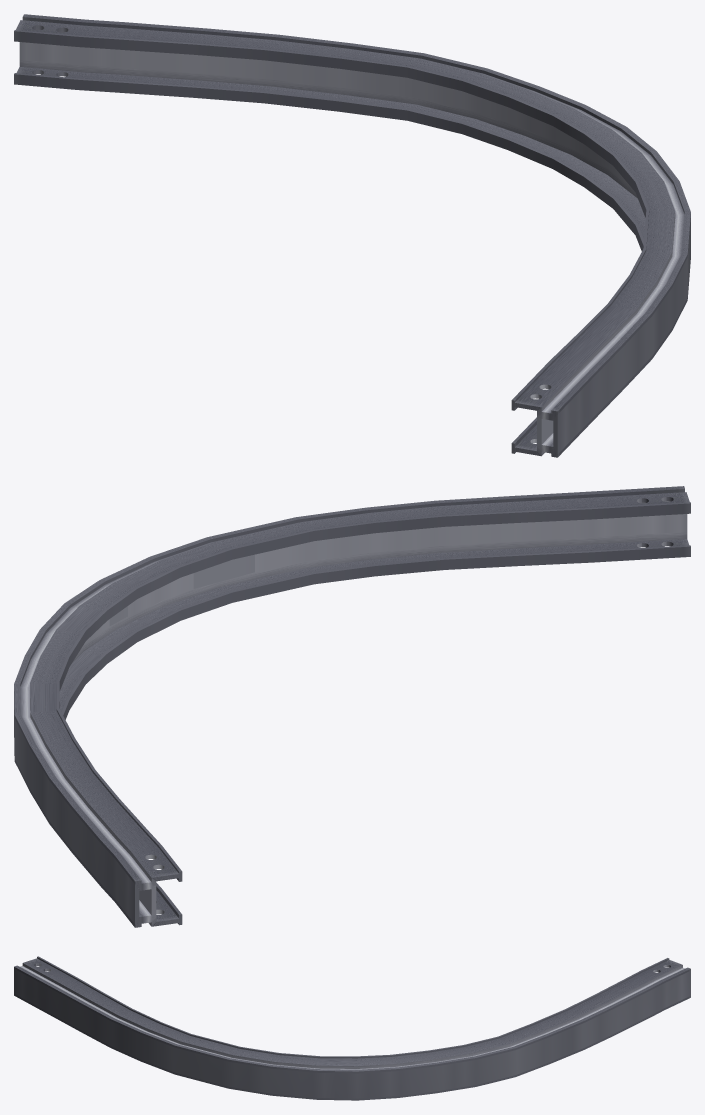
The picture shows the model from 3 angles, top to bottom: view 1: azimuth 30°, elevation 25°; view 2: azimuth 150°, elevation 25°; view 3: azimuth 270°, elevation 25°; orthographic projection. The views are drawn at different scales.
Visible parts, largest first — view 1: PN 5000-09A; view 2: PN 5000-09A; view 3: PN 5000-09A.
Boxes of the visible parts, bbox=[...] form: PN 5000-09A: bbox=[14, 14, 690, 457]; PN 5000-09A: bbox=[14, 486, 690, 927]; PN 5000-09A: bbox=[14, 956, 690, 1100].
Bounding box in the file's own units: 46.45 × 6.39 × 118.
Materials: 1 (1 with a texture image).
